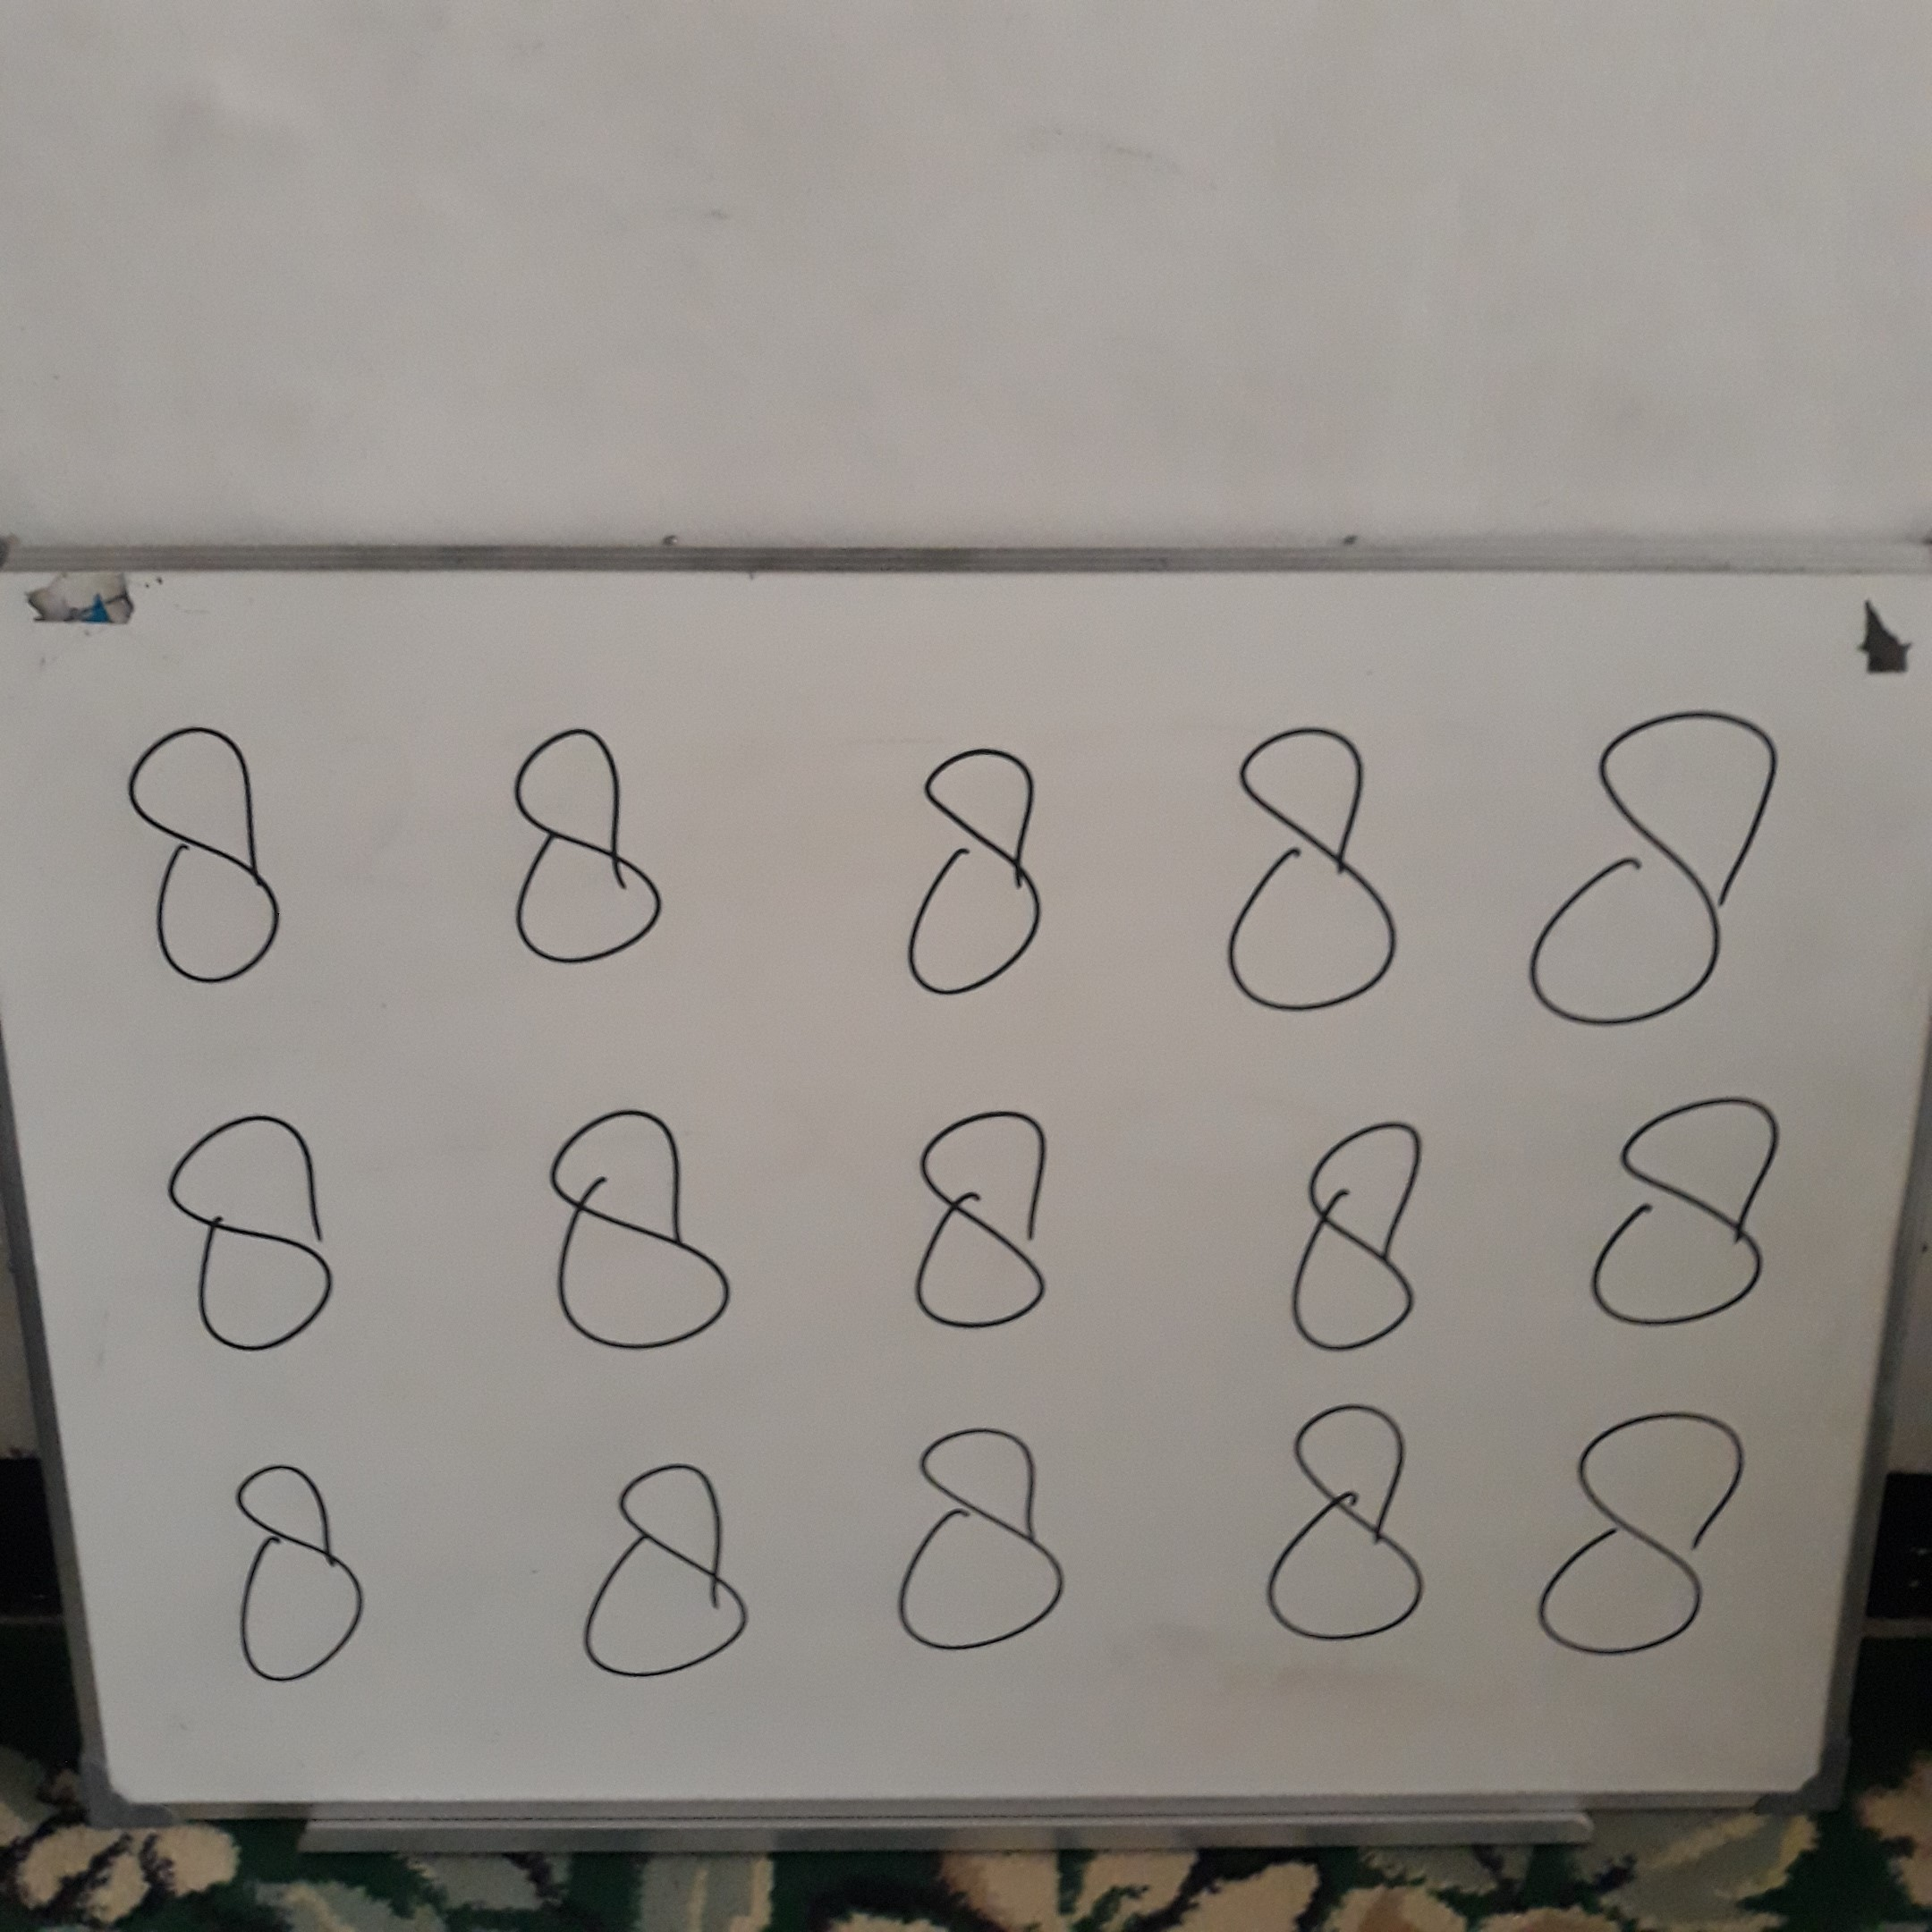num8: (1515, 682, 1801, 1061), (1183, 703, 1446, 1038), (1510, 1391, 1784, 1685), (522, 1088, 768, 1378), (1228, 1394, 1458, 1682), (103, 705, 313, 1009), (1573, 1089, 1806, 1353), (490, 708, 684, 1011), (877, 735, 1075, 1026), (151, 1100, 360, 1378), (880, 1415, 1096, 1669), (557, 1453, 787, 1689), (208, 1443, 399, 1711), (896, 1097, 1083, 1365), (1269, 1107, 1448, 1380)
